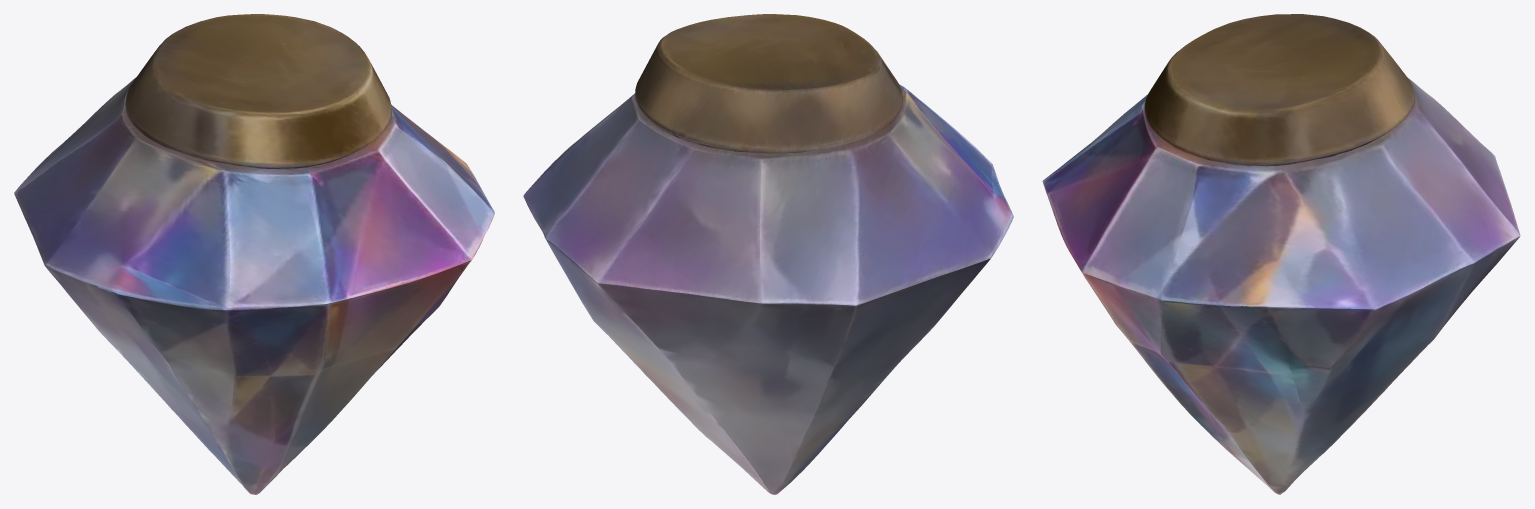
The model's file is m2FacetGemI.glb.
The picture shows the model from 3 angles, left to right: view 1: azimuth 30°, elevation 25°; view 2: azimuth 150°, elevation 25°; view 3: azimuth 270°, elevation 25°; orthographic projection. The views are drawn at different scales.
Visible parts, largest first — view 1: model; view 2: model; view 3: model.
Boxes of the visible parts, x1,y1,x2,y2 form: model: [14, 14, 494, 494]; model: [523, 14, 1013, 494]; model: [1042, 14, 1520, 494].
Bounding box in the file's own units: 1.9 × 1.9 × 1.86.
1 material, 1 textured.
